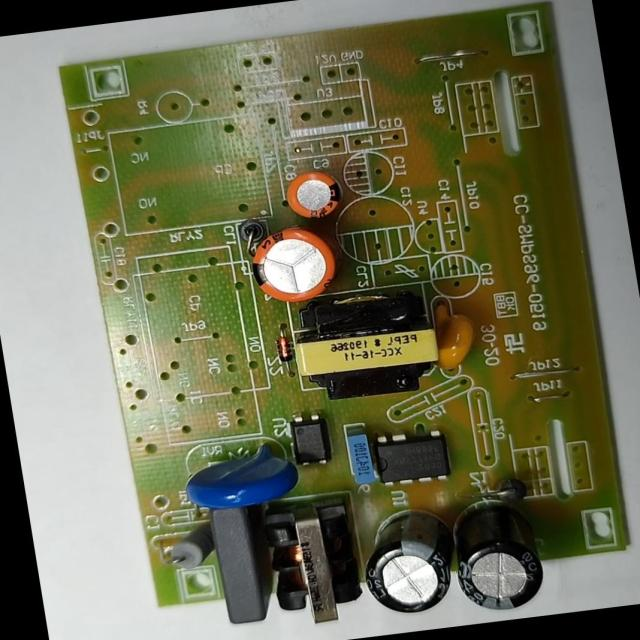Cap1: (241, 222, 344, 308)
Cap2: (280, 165, 346, 224)
Cap3: (354, 505, 459, 620)
Cap4: (443, 495, 548, 616)
MOSFET: (369, 423, 451, 491)
Mov: (172, 436, 302, 514)
Resistor: (162, 520, 216, 574)
Transformer: (286, 282, 443, 407), (257, 496, 366, 630)
